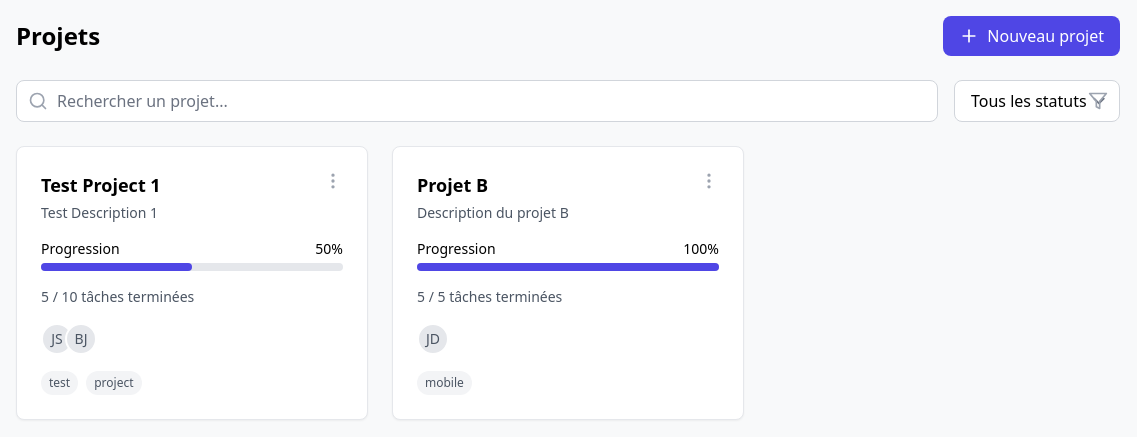
Test: ProjectList › devrait filtrer les projets par recherche
Check: the heading "Test Project 1" is shown, box x1=41 y1=171 x2=161 y2=199
Type "Test Project 1" into the field with placeholder "Rechercher un projet..." at (477, 101), box x1=16 y1=80 x2=938 y2=122
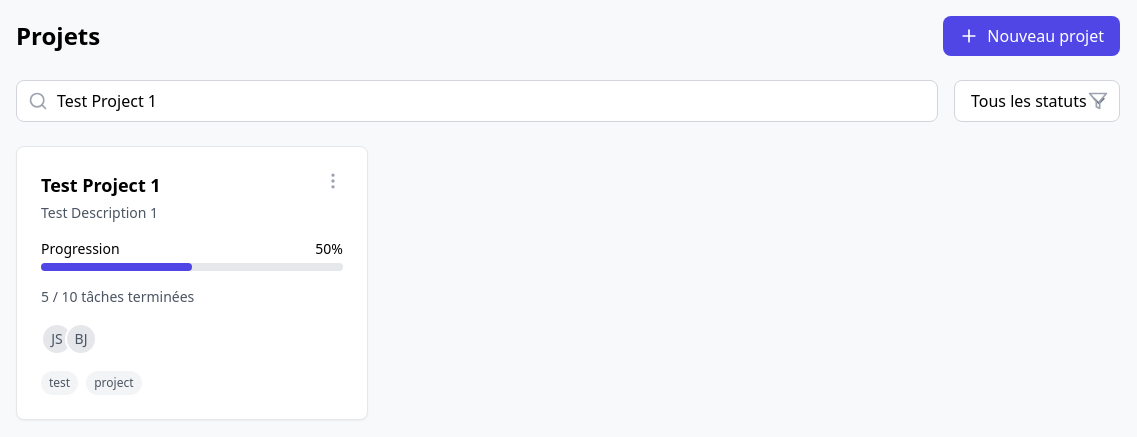
Check: the heading "Test Project 1" is shown, box x1=41 y1=171 x2=161 y2=199
Check: the heading "Projet B" is gone
